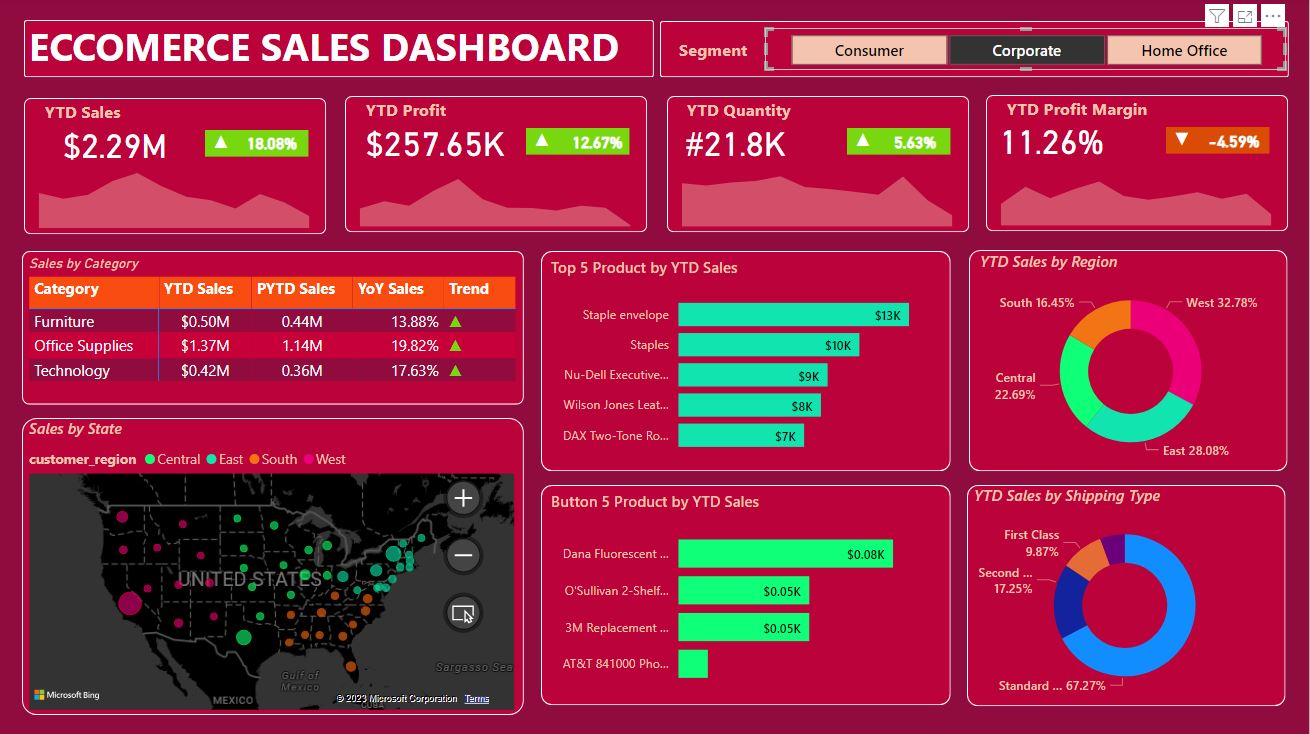

The page's visual inventory and layout, read from the dashboard file:
{"tool":"powerbi","page":{"name":"Page 1","canvas":[1280,720],"ordinal":0},"visuals":[{"type":"shape","box":[25.8,21.8,614.6,55.5],"z":0},{"type":"textbox","box":[25.5,17,607,65.9],"z":1000},{"type":"shape","box":[25.8,97.2,295.4,132.8],"z":2000},{"type":"card","fields":{"Values":["ecommerce_data.YTD"]},"box":[41.5,119.1,145.6,44.7],"z":3000},{"type":"areaChart","fields":{"Category":["Calender.Month"],"Y":["Sum(ecommerce_data.sales_per_order)"]},"box":[25.5,141.4,293.4,88.2],"z":4000},{"type":"shape","box":[202,128.6,101,25.5],"z":5000},{"type":"card","fields":{"Values":["ecommerce_data.YoY Sales"]},"box":[232.8,128.6,70.2,25.5],"z":6000},{"type":"card","fields":{"Values":["ecommerce_data.Sales Icon"]},"box":[202,126.5,30.8,28.7],"z":7000},{"type":"textbox","box":[41.5,94.6,104.2,31.9],"z":8000},{"type":"shape","box":[339.1,95.7,295.4,132.8],"z":9000},{"type":"card","fields":{"Values":["ecommerce_data.YTD Profit"]},"box":[339.1,117,176.5,44.7],"z":10000},{"type":"areaChart","fields":{"Category":["Calender.Month"],"Y":["Sum(ecommerce_data.profit_per_order)"]},"box":[339.1,153.2,293.4,75.5],"z":11000},{"type":"shape","box":[515.3,127.2,101,25.5],"z":12000},{"type":"card","fields":{"Values":["ecommerce_data.YoY Profit"]},"box":[553.8,127.6,62.7,25.5],"z":13000},{"type":"card","fields":{"Values":["ecommerce_data.Profit Icon"]},"box":[515.3,125,30.8,28.7],"z":14000},{"type":"textbox","box":[354.8,93.1,104.2,31.9],"z":15000},{"type":"shape","box":[652.7,95.7,295.4,132.8],"z":16000},{"type":"card","fields":{"Values":["ecommerce_data.YTD Concatenated Qty"]},"box":[653.8,116.9,131.8,44.7],"z":17000},{"type":"areaChart","fields":{"Category":["Calender.Month"],"Y":["Sum(ecommerce_data.order_quantity)"]},"box":[652.7,153.2,293.4,75.5],"z":18000},{"type":"shape","box":[828.9,127.2,101,25.5],"z":19000},{"type":"card","fields":{"Values":["ecommerce_data.YoY Qty"]},"box":[860.1,127.6,70.2,25.5],"z":20000},{"type":"card","fields":{"Values":["ecommerce_data.Qty Icon"]},"box":[828.9,125,30.8,28.7],"z":21000},{"type":"textbox","box":[668.2,93.2,176.5,31.9],"z":22000},{"type":"shape","box":[964.3,94.7,295.4,132.8],"z":23000},{"type":"card","fields":{"Values":["ecommerce_data.YTD Profit Margin"]},"box":[962.3,115.2,131.8,44.7],"z":24000},{"type":"areaChart","fields":{"Category":["Calender.Month"],"Y":["ecommerce_data.Profit Margin"]},"box":[964.3,152.2,293.4,75.5],"z":25000},{"type":"shape","box":[1140.5,126.2,101,25.5],"z":26000},{"type":"card","fields":{"Values":["ecommerce_data.YoY Profit Margin"]},"box":[1171.6,126.5,70.2,25.5],"z":27000},{"type":"card","fields":{"Values":["ecommerce_data.Profit Margin Icon"]},"box":[1140.5,124.1,30.8,28.7],"z":28000},{"type":"textbox","box":[979.8,92.2,176.5,31.9],"z":29000},{"type":"shape","box":[23.4,246.7,490,150],"z":30000},{"type":"pivotTable","title":"Sales by Category","fields":{"Rows":["ecommerce_data.category_name"],"Values":["ecommerce_data.YTD Sales","ecommerce_data.PYTD Sales","ecommerce_data.YoY Sales","ecommerce_data.Sales Icon"]},"box":[25.5,252,490.1,139.3],"z":31000},{"type":"shape","box":[23.4,410.4,490.1,290.2],"z":32000},{"type":"map","title":"Sales by State","fields":{"Y":["us_state_long_lat_codes.latitude"],"X":["us_state_long_lat_codes.longitude"],"Series":["ecommerce_data.customer_region"],"Size":["ecommerce_data.YTD Sales"]},"box":[25.5,410.4,483.7,290.2],"z":33000},{"type":"shape","box":[530.5,246.6,399.7,215],"z":34000},{"type":"shape","box":[530.5,475.2,399.7,215],"z":35000},{"type":"barChart","title":"Top 5 Product by YTD Sales ","fields":{"Category":["ecommerce_data.product_name"],"Y":["ecommerce_data.YTD Sales"]},"box":[535.3,252.6,389.6,203.4],"z":36000},{"type":"barChart","title":"Button 5 Product by YTD Sales ","fields":{"Category":["ecommerce_data.product_name"],"Y":["ecommerce_data.YTD Sales"]},"box":[535.3,481,389.6,203.4],"z":37000},{"type":"shape","box":[948.3,245.6,311.5,215.8],"z":38000},{"type":"shape","box":[946.2,475.2,311.5,215.8],"z":39000},{"type":"donutChart","title":"YTD Sales by Region","fields":{"Category":["ecommerce_data.customer_region"],"Y":["ecommerce_data.YTD Sales"]},"box":[953.6,246.6,304.1,214.8],"z":40000},{"type":"donutChart","title":"YTD Sales by Shipping Type","fields":{"Y":["ecommerce_data.YTD Sales"],"Category":["ecommerce_data.shipping_type"]},"box":[948.3,475.2,304.1,214.8],"z":41000},{"type":"shape","box":[646.4,22.3,614.5,55.3],"z":42000},{"type":"slicer","fields":{"Values":["ecommerce_data.customer_segment"]},"box":[748.4,29.8,509.2,40.4],"z":43000},{"type":"textbox","box":[660.2,34,118,31.9],"z":44000}]}

Visuals, with their boxes in screenshot pixels (x1, y1, x2, y2), scaled from the page's 1280x720 canvas onto the 1310x734 screenshot:
shape: <box>26,22,655,79</box>
textbox: <box>26,17,647,85</box>
shape: <box>26,99,329,234</box>
card - ecommerce_data.YTD: <box>42,121,191,167</box>
areaChart - Calender.Month x Sum(ecommerce_data.sales_per_order): <box>26,144,326,234</box>
shape: <box>207,131,310,157</box>
card - ecommerce_data.YoY Sales: <box>238,131,310,157</box>
card - ecommerce_data.Sales Icon: <box>207,129,238,158</box>
textbox: <box>42,96,149,129</box>
shape: <box>347,98,649,233</box>
card - ecommerce_data.YTD Profit: <box>347,119,528,165</box>
areaChart - Calender.Month x Sum(ecommerce_data.profit_per_order): <box>347,156,647,233</box>
shape: <box>527,130,631,156</box>
card - ecommerce_data.YoY Profit: <box>567,130,631,156</box>
card - ecommerce_data.Profit Icon: <box>527,127,559,157</box>
textbox: <box>363,95,470,127</box>
shape: <box>668,98,970,233</box>
card - ecommerce_data.YTD Concatenated Qty: <box>669,119,804,165</box>
areaChart - Calender.Month x Sum(ecommerce_data.order_quantity): <box>668,156,968,233</box>
shape: <box>848,130,952,156</box>
card - ecommerce_data.YoY Qty: <box>880,130,952,156</box>
card - ecommerce_data.Qty Icon: <box>848,127,880,157</box>
textbox: <box>684,95,864,128</box>
shape: <box>987,97,1289,232</box>
card - ecommerce_data.YTD Profit Margin: <box>985,117,1120,163</box>
areaChart - Calender.Month x ecommerce_data.Profit Margin: <box>987,155,1287,232</box>
shape: <box>1167,129,1271,155</box>
card - ecommerce_data.YoY Profit Margin: <box>1199,129,1271,155</box>
card - ecommerce_data.Profit Margin Icon: <box>1167,127,1199,156</box>
textbox: <box>1003,94,1183,127</box>
shape: <box>24,251,525,404</box>
"Sales by Category" pivotTable: <box>26,257,528,399</box>
shape: <box>24,418,526,714</box>
"Sales by State" map: <box>26,418,521,714</box>
shape: <box>543,251,952,471</box>
shape: <box>543,484,952,704</box>
"Top 5 Product by YTD Sales " barChart: <box>548,258,947,465</box>
"Button 5 Product by YTD Sales " barChart: <box>548,490,947,698</box>
shape: <box>971,250,1289,470</box>
shape: <box>968,484,1287,704</box>
"YTD Sales by Region" donutChart: <box>976,251,1287,470</box>
"YTD Sales by Shipping Type" donutChart: <box>971,484,1282,703</box>
shape: <box>662,23,1290,79</box>
slicer - ecommerce_data.customer_segment: <box>766,30,1287,72</box>
textbox: <box>676,35,796,67</box>
